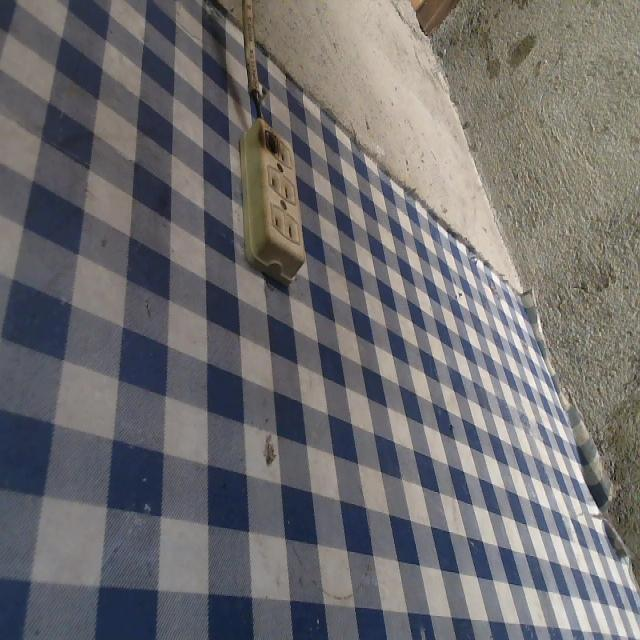-: (257, 110, 284, 162)
